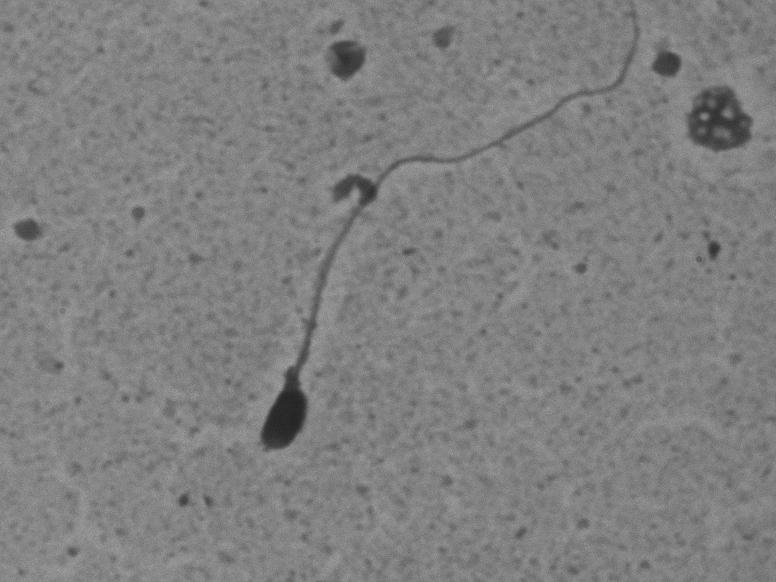Abnormal: (244, 9, 651, 464)
